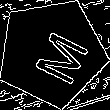M_NW: (19, 21, 85, 84)
